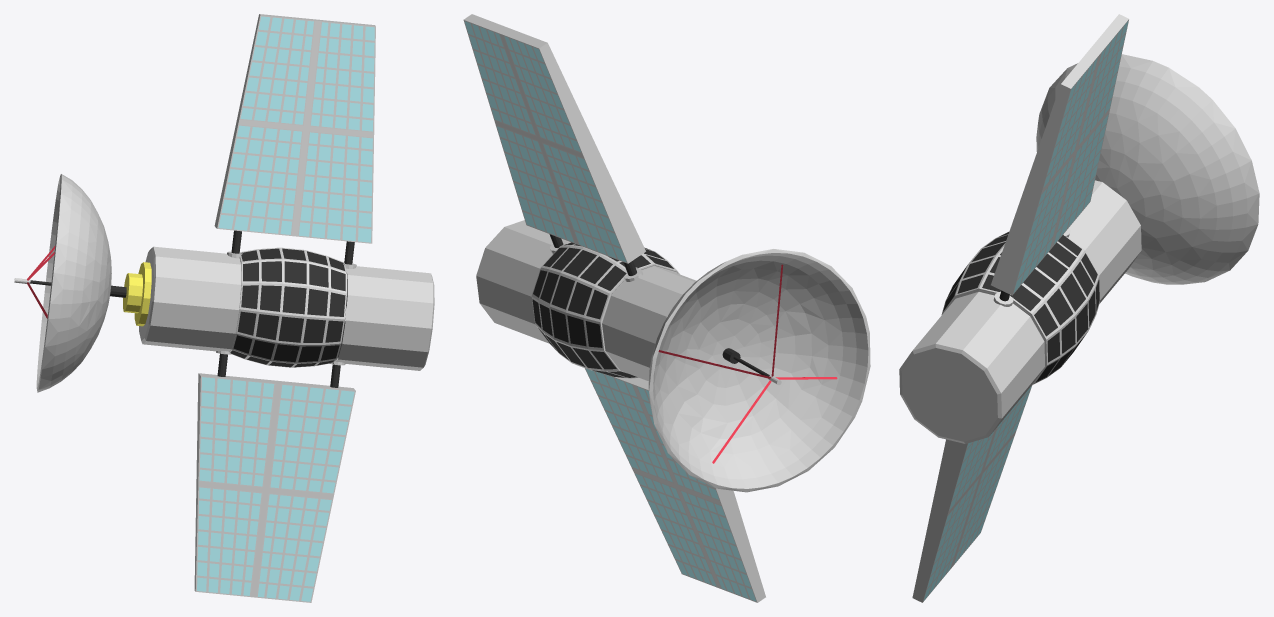
File: satelite.glb
The picture shows the model from 3 angles, left to right: view 1: azimuth 30°, elevation 25°; view 2: azimuth 150°, elevation 25°; view 3: azimuth 270°, elevation 25°; orthographic projection. The views are drawn at different scales.
Parts seen in each view (by area): view 1: wing2.001, wing2, Satelite, parabola, topPart, bottomPart, lowerParabola; view 2: parabola, wing2.001, wing2, Satelite, bottomPart, topPart; view 3: parabola, bottomPart, wing2.001, Satelite, wing2, topPart.
Boxes of the visible parts, x1,y1,x2,y2 form: wing2.001: [214, 14, 375, 307]; wing2: [194, 321, 355, 602]; Satelite: [228, 247, 346, 367]; parabola: [14, 174, 126, 392]; topPart: [139, 246, 241, 351]; bottomPart: [216, 251, 434, 370]; lowerParabola: [124, 262, 151, 326]; parabola: [648, 249, 870, 492]; wing2.001: [463, 14, 645, 275]; wing2: [585, 368, 765, 602]; Satelite: [531, 242, 679, 378]; bottomPart: [476, 220, 642, 343]; topPart: [602, 266, 696, 381]; parabola: [1036, 54, 1259, 284]; bottomPart: [899, 228, 1070, 443]; wing2.001: [991, 14, 1128, 301]; Satelite: [941, 231, 1099, 384]; wing2: [912, 385, 1032, 602]; topPart: [1068, 180, 1141, 303].
Bounding box in the file's own units: 583 × 798 × 428.
